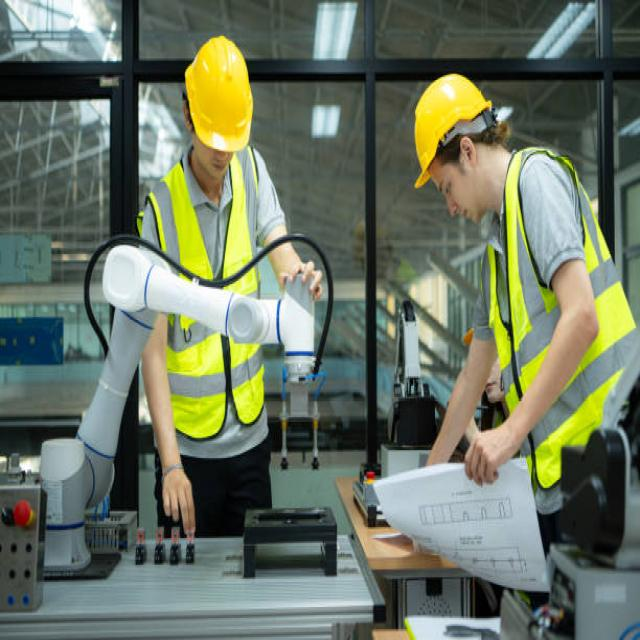Robotic-arm: (67, 232, 321, 510)
